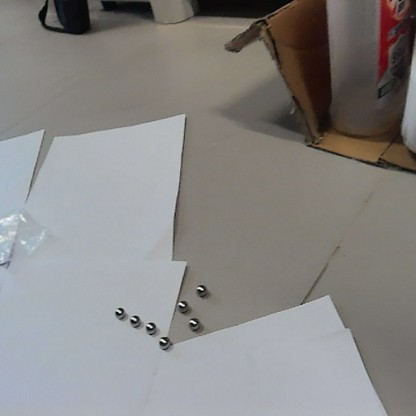ironball: (193, 281, 207, 298), (184, 316, 199, 330), (143, 319, 157, 334), (158, 334, 172, 349), (174, 298, 187, 314), (113, 303, 126, 319), (127, 313, 139, 328)
